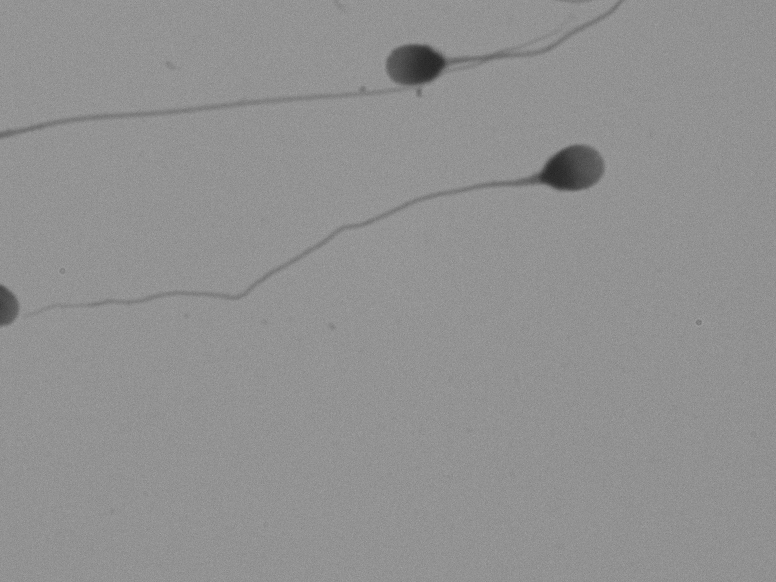Normal: (58, 138, 677, 336), (365, 9, 656, 113)
